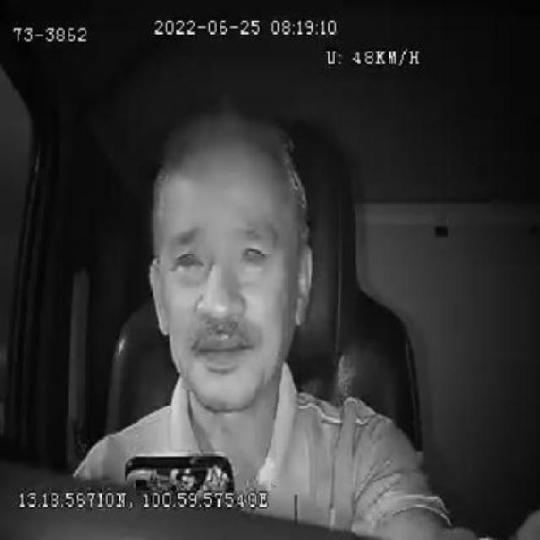phone: (122, 448, 237, 489)
